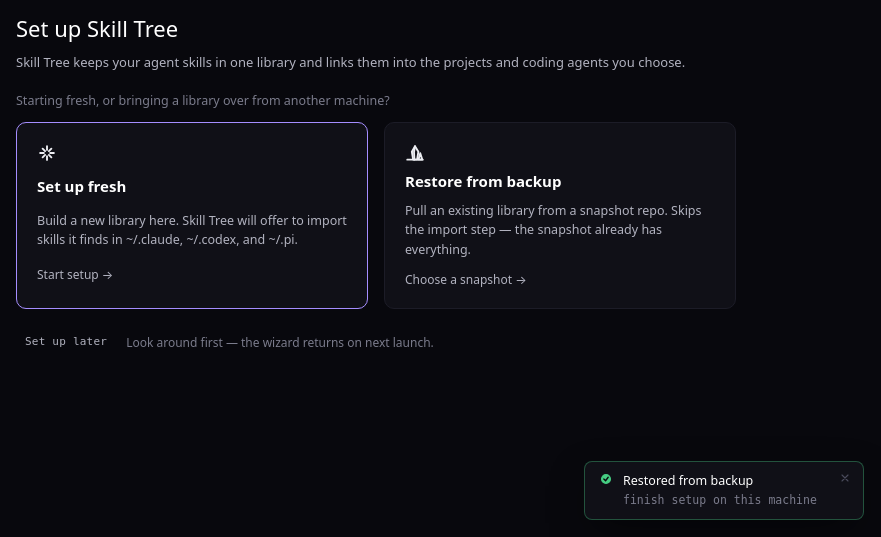
Scenario: BootstrapWizard — restore branch › describes merge exactly as the Backup screen does
Click the button with test id "choose-restore": (560, 216) [384, 122, 736, 310]
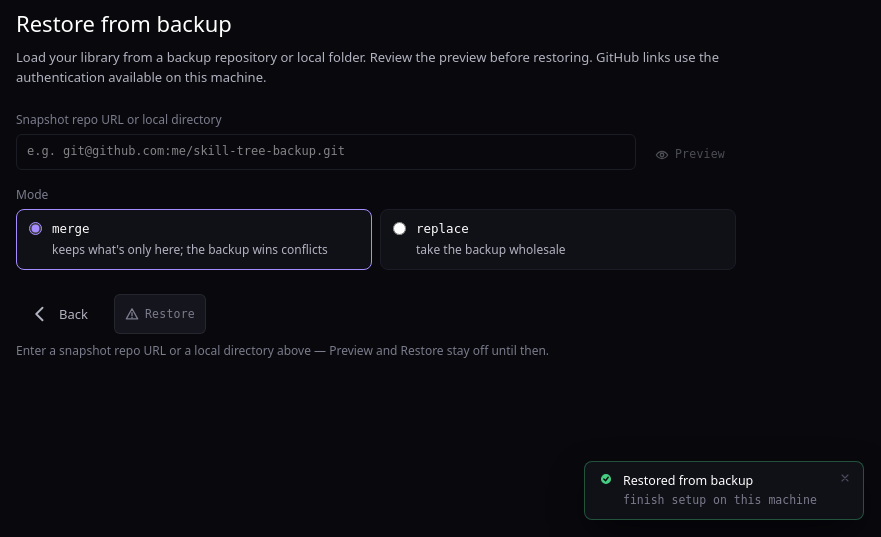
expect the label with test id "bootstrap-restore-mode-merge" shows "merge": met, box [52, 221, 90, 236]
expect the label with test id "bootstrap-restore-mode-merge" shows "keeps what's only here; the backup wins conflicts": met, box [52, 241, 328, 258]
expect the label with test id "bootstrap-restore-mode-merge" shows "the backup wins conflicts": met, box [52, 241, 328, 258]
